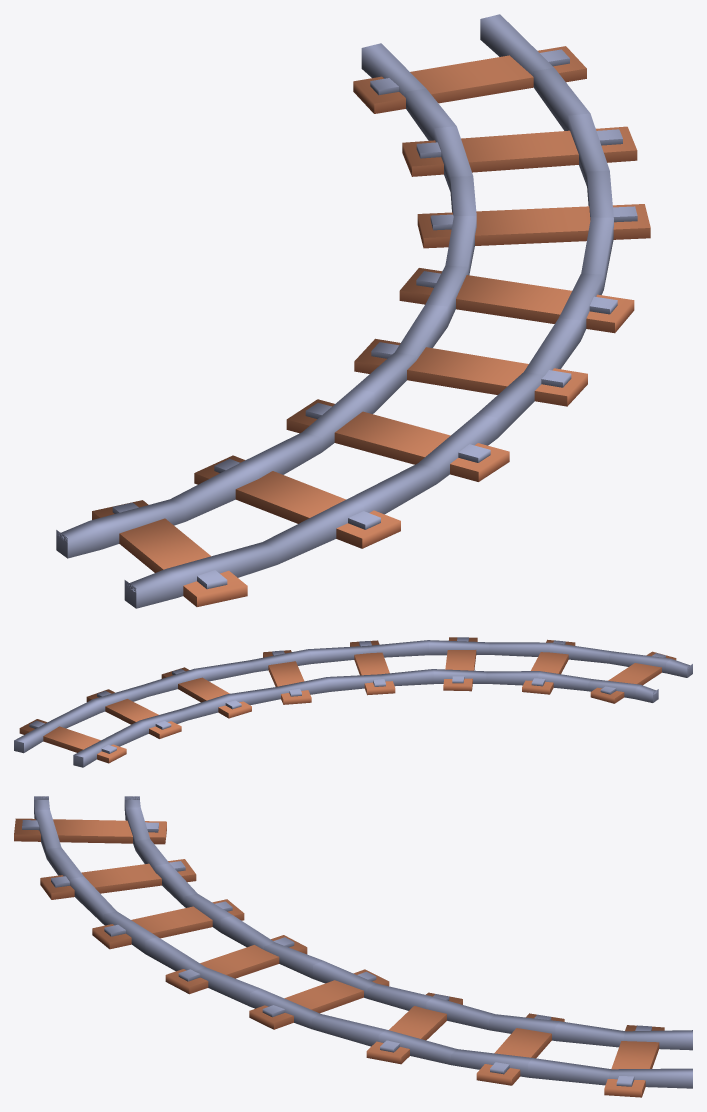
The model's file is railroad-damaged-corner-large.glb.
The picture shows the model from 3 angles, top to bottom: view 1: azimuth 30°, elevation 25°; view 2: azimuth 150°, elevation 25°; view 3: azimuth 270°, elevation 25°; orthographic projection. The views are drawn at different scales.
Visible parts, largest first — view 1: railroad-damaged-corner-large; view 2: railroad-damaged-corner-large; view 3: railroad-damaged-corner-large.
Part boxes in pixels (x1=…): railroad-damaged-corner-large: x1=56, y1=14, x2=650, y2=608; railroad-damaged-corner-large: x1=14, y1=637, x2=692, y2=767; railroad-damaged-corner-large: x1=14, y1=796, x2=692, y2=1097.
Bounding box in the file's own units: 4.49 × 0.1 × 4.48.
